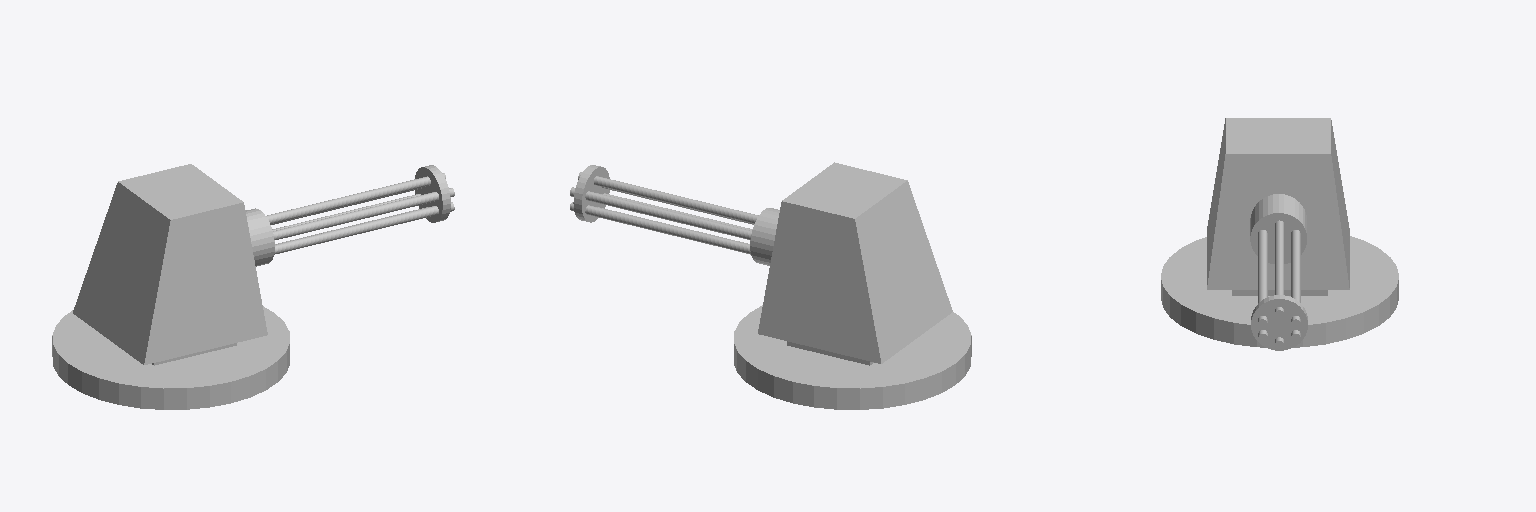
File: 40mmGatling.obj
3 views of the same model, side by side, from view 1: azimuth 30°, elevation 25°; view 2: azimuth 150°, elevation 25°; view 3: azimuth 270°, elevation 25° (orthographic).
Visible parts, largest first — view 1: Cylinder.008; view 2: Cylinder.008; view 3: Cylinder.008.
Part boxes in pixels (bbox=[...]): Cylinder.008: bbox=[52, 164, 454, 409]; Cylinder.008: bbox=[570, 162, 971, 409]; Cylinder.008: bbox=[1161, 118, 1398, 350].
Bounding box in the file's own units: 1.82 × 0.7699 × 1.